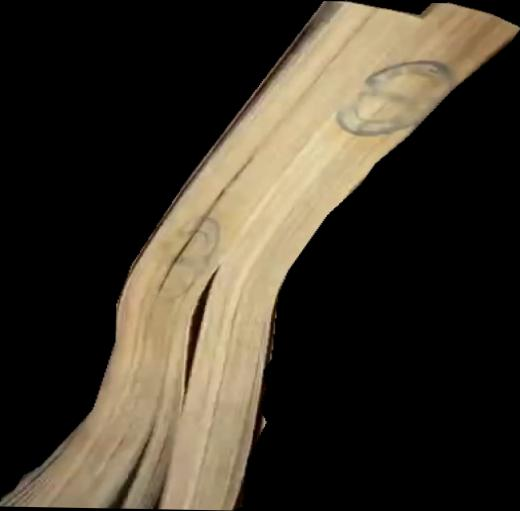backward: (1, 1, 520, 511)
